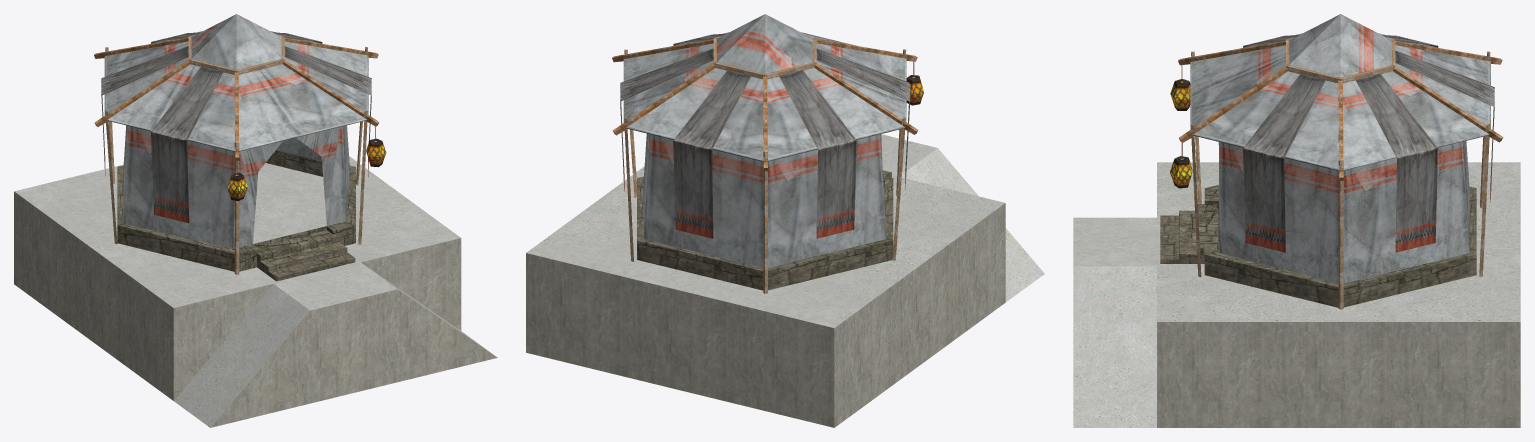
File: ply_all_merchant_tent_s01_r0_mesh_l1.fbx
3 renders of one model, left to right at view 1: azimuth 30°, elevation 25°; view 2: azimuth 150°, elevation 25°; view 3: azimuth 270°, elevation 25°, orthographic. The views are drawn at different scales.
Parts seen in each view (by area): view 1: mesh_node; view 2: mesh_node; view 3: mesh_node.
Part boxes in pixels (left/top/right/bottom): mesh_node: left=14, top=14, right=497, bottom=427; mesh_node: left=526, top=14, right=1044, bottom=427; mesh_node: left=1073, top=14, right=1520, bottom=427.
Bounding box in the file's own units: 9.05 × 8.81 × 10.7.
